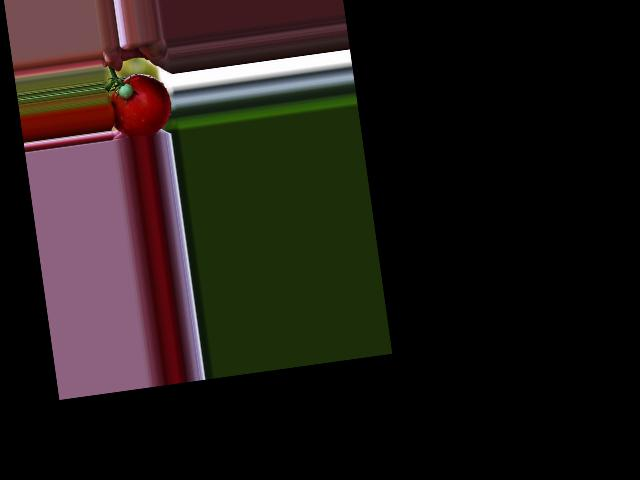tomato: (107, 69, 174, 141)
